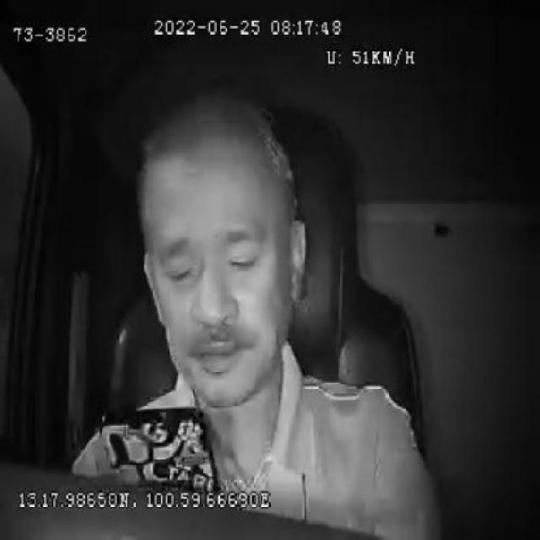phone: (99, 406, 222, 491)
